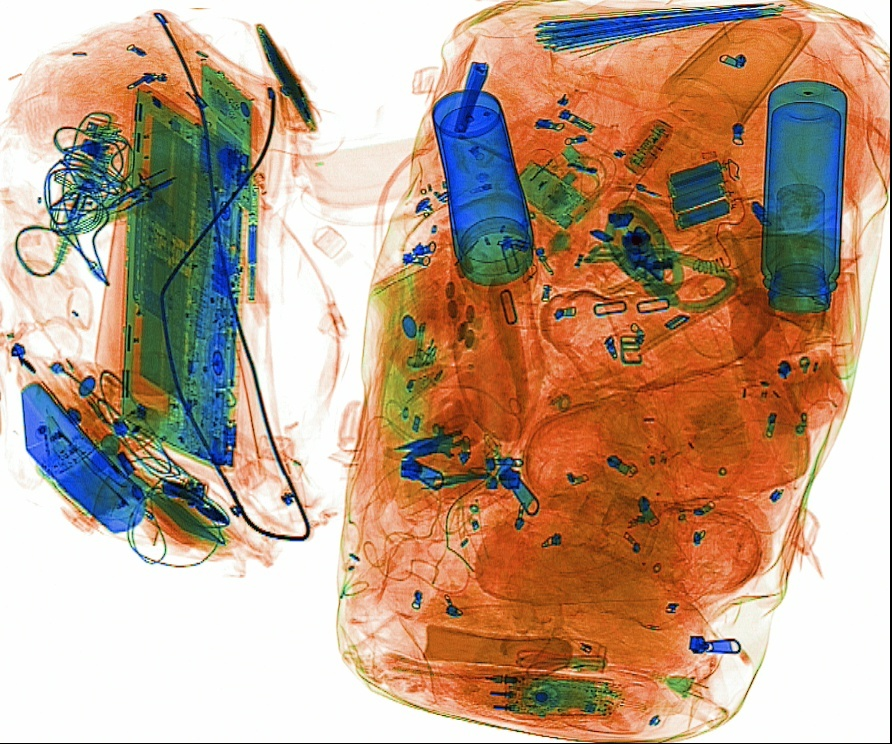powerbank: (663, 156, 733, 231)
